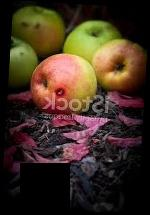rotten apple: (31, 52, 101, 114), (11, 6, 65, 54)
